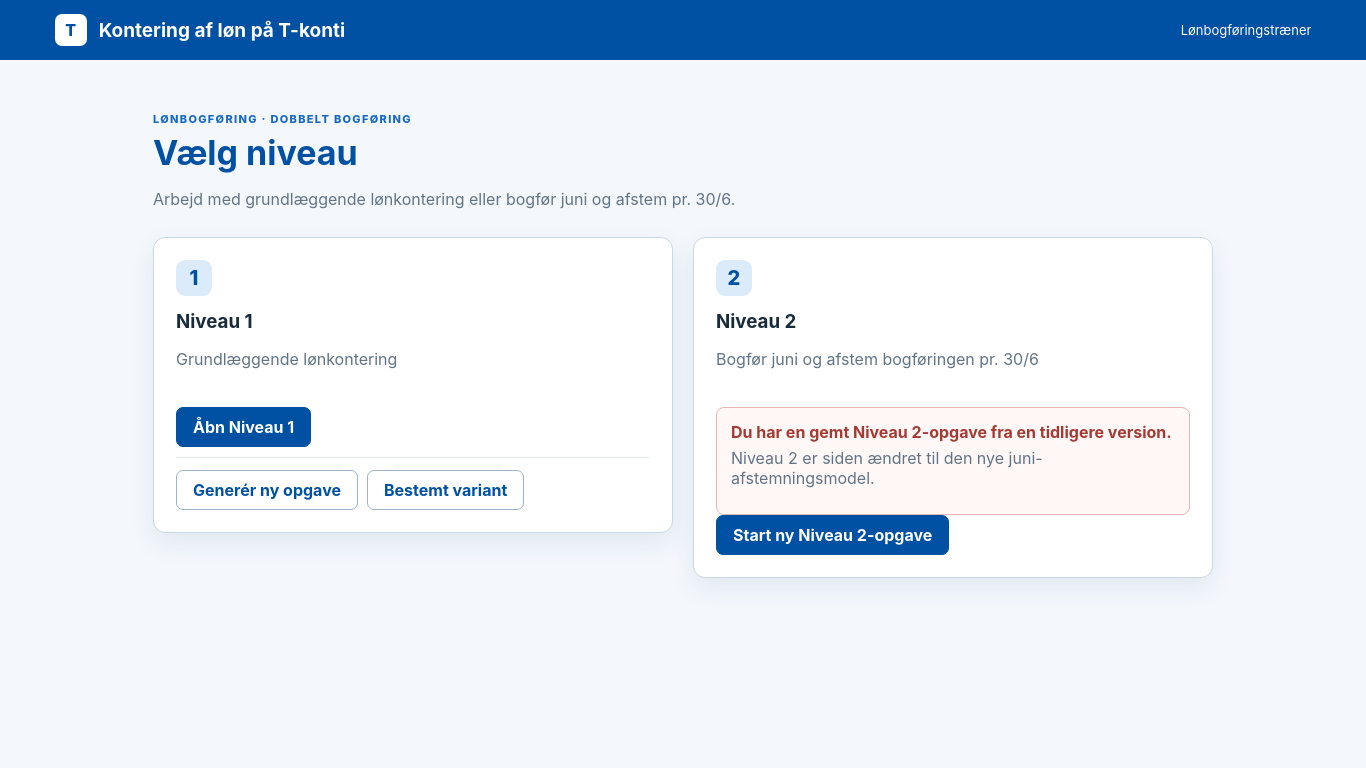
J3C active V2.1 Home and lifecycle integration › starts explicit variant 42 in the V2.1 B1 workspace and writes only the v2 key
Click the button "Start ny Niveau 2-opgave" at (833, 535), box x1=716 y1=515 x2=949 y2=555
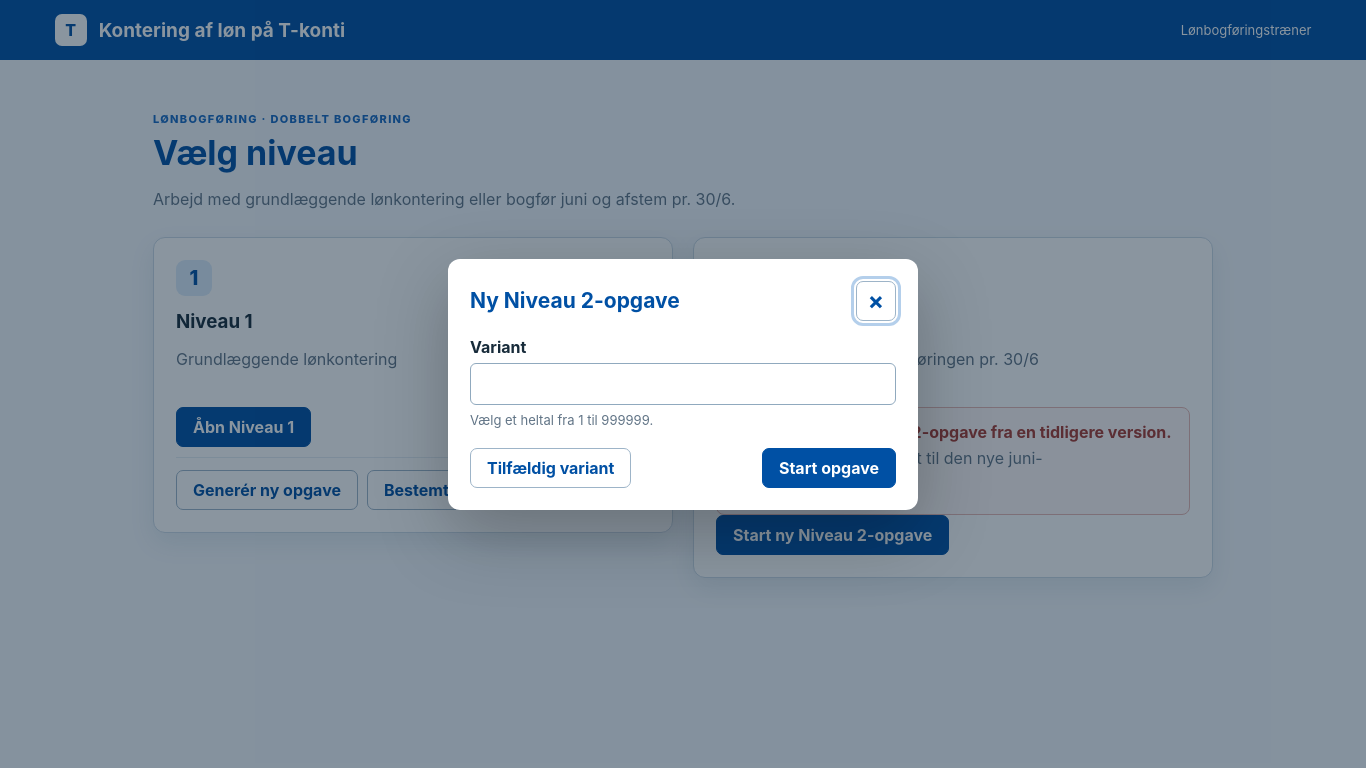
Type "42" into the field labelled "Variant" at (683, 384), box x1=470 y1=362 x2=896 y2=404
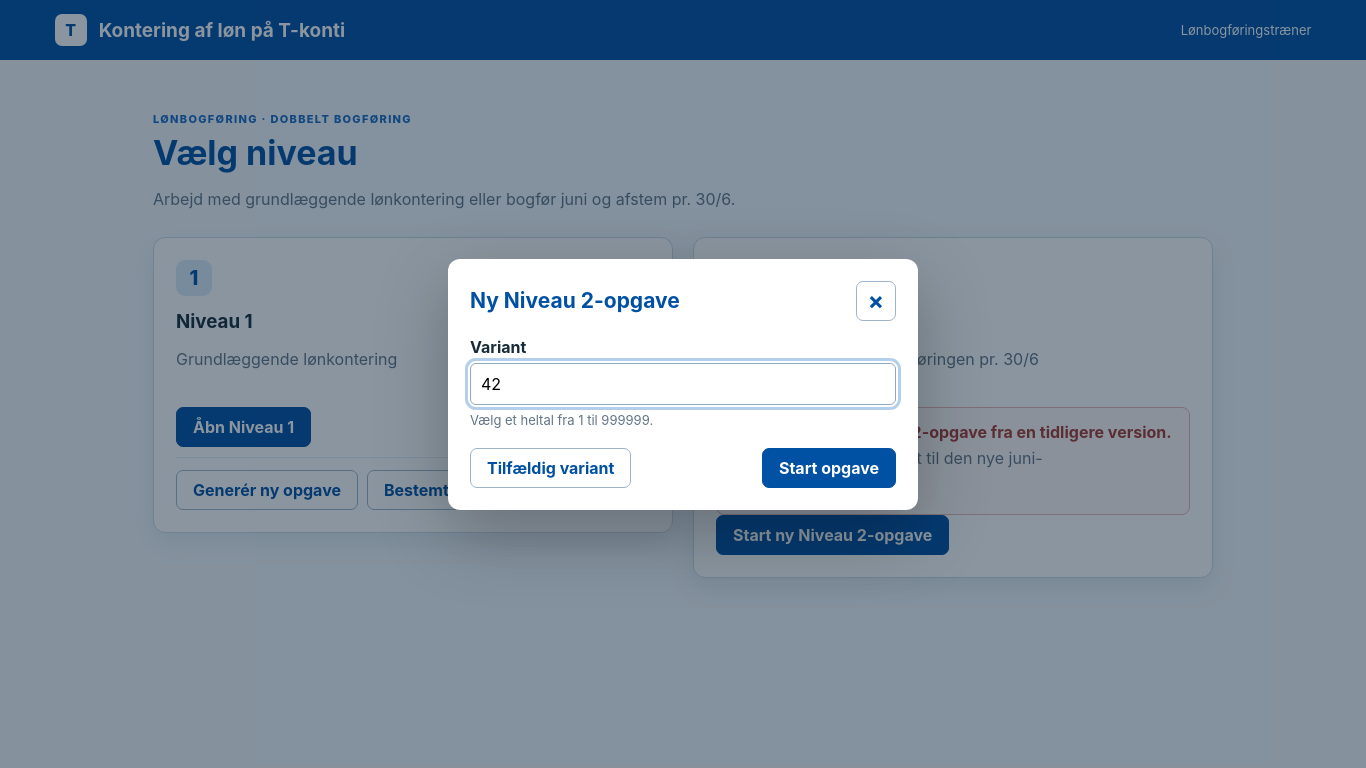
Click the button "Start opgave" at (829, 468), box x1=762 y1=448 x2=896 y2=488
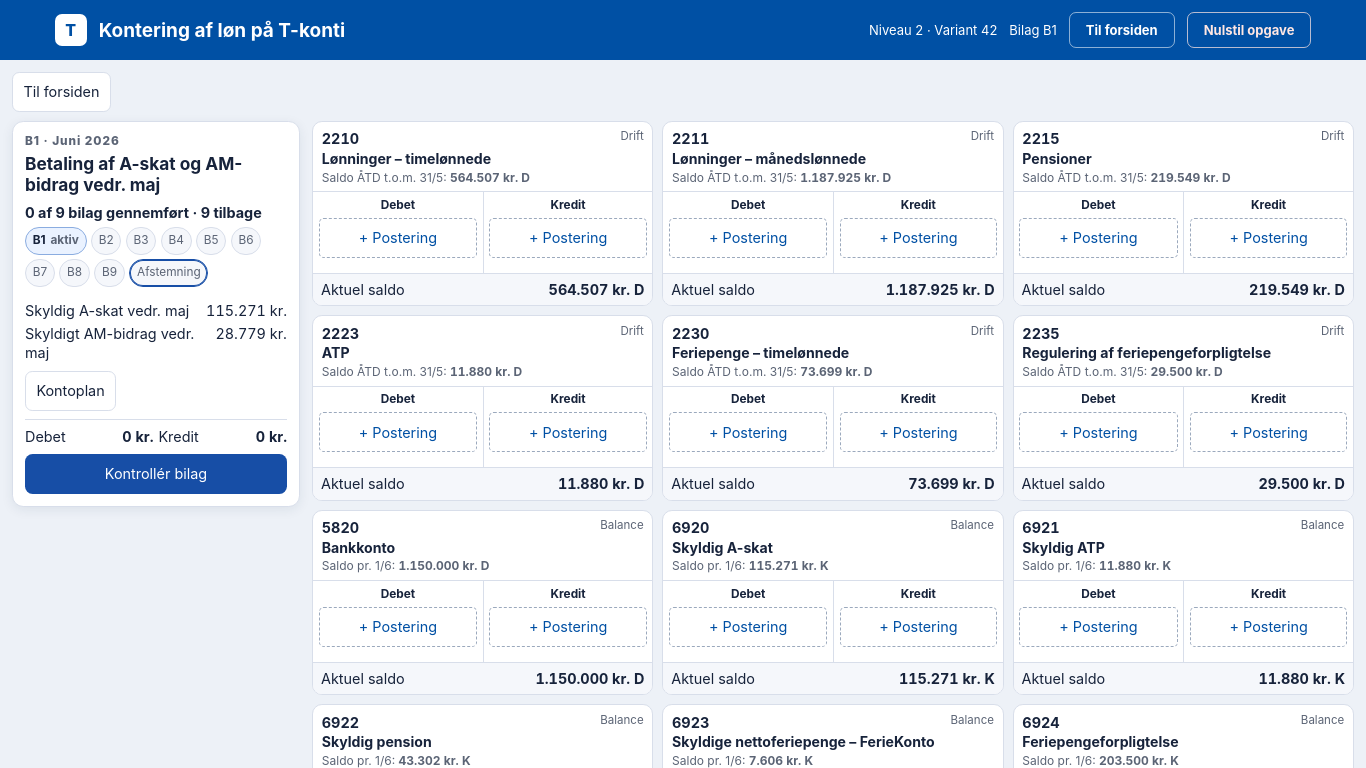
Check: the text "Niveau 2 · Variant 42" is shown, box x1=869 y1=22 x2=997 y2=38
Check: the text "B1 · Juni 2026" is shown, box x1=25 y1=134 x2=120 y2=148
Check: the text "0 af 9 bilag gennemført · 9 tilbage" is shown, box x1=25 y1=203 x2=287 y2=222
